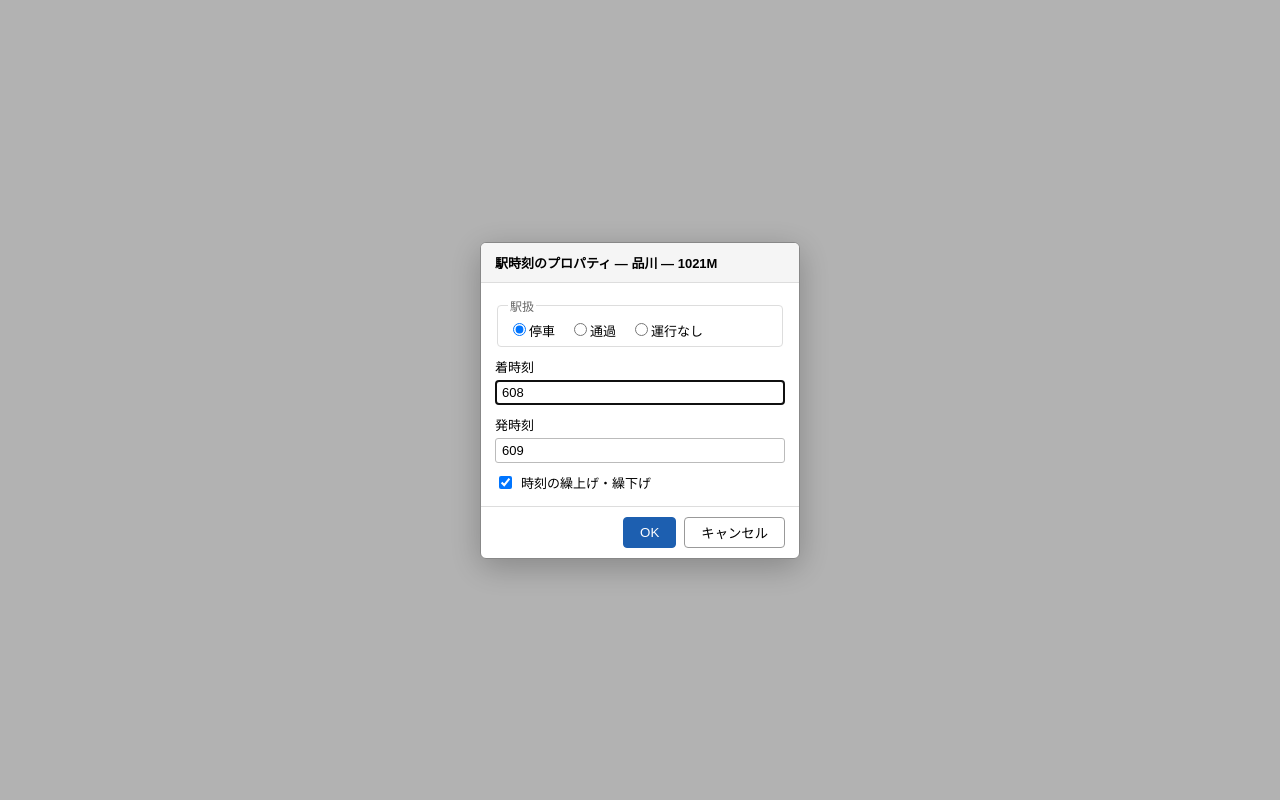
Test: EkiJikokuDialog › ラジオを運行なしへ変更すると時刻欄が無効化され、停車へ戻すと有効化される
The image size is (1280, 800).
Click the radio button labelled "運行なし" at (642, 329), box [635,322,648,336]
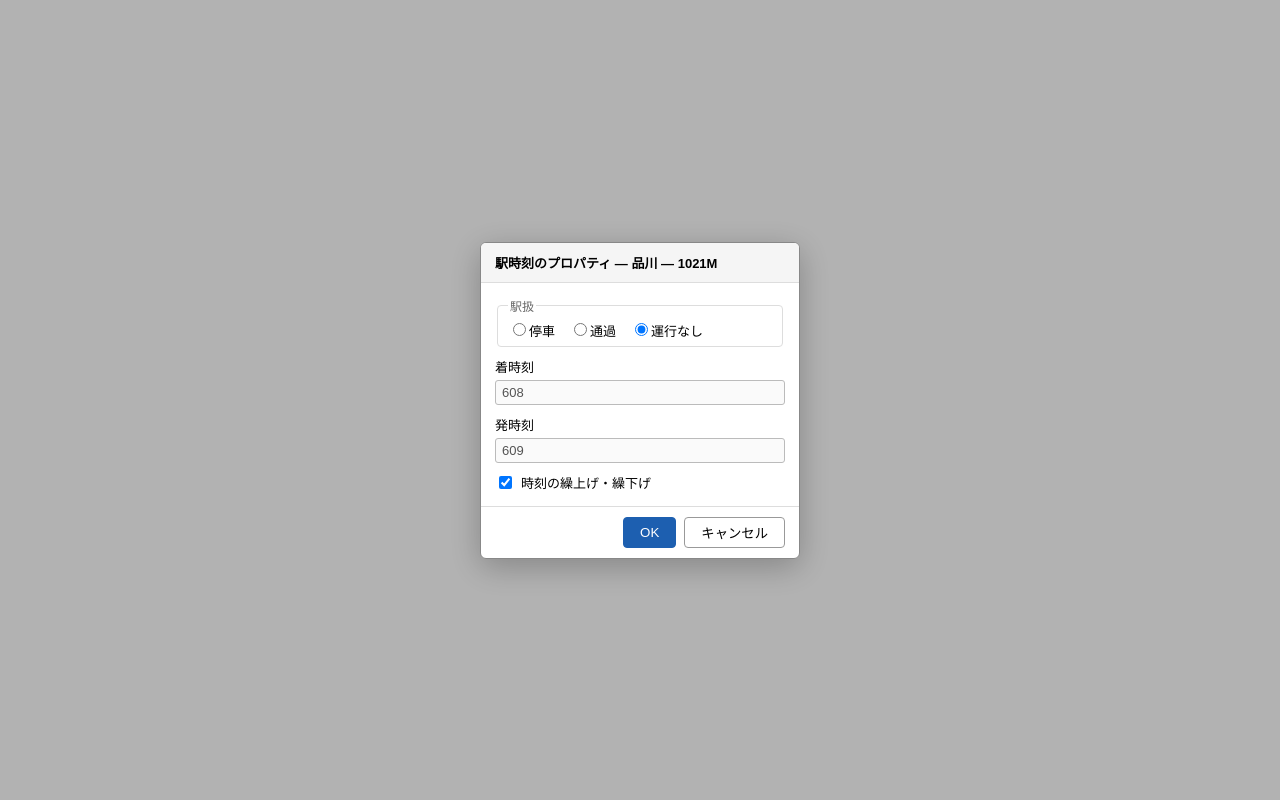
Expected: the field labelled "着時刻" is disabled, [495,380,785,404]
Click the radio button labelled "停車" at (520, 329), box [513,322,526,336]
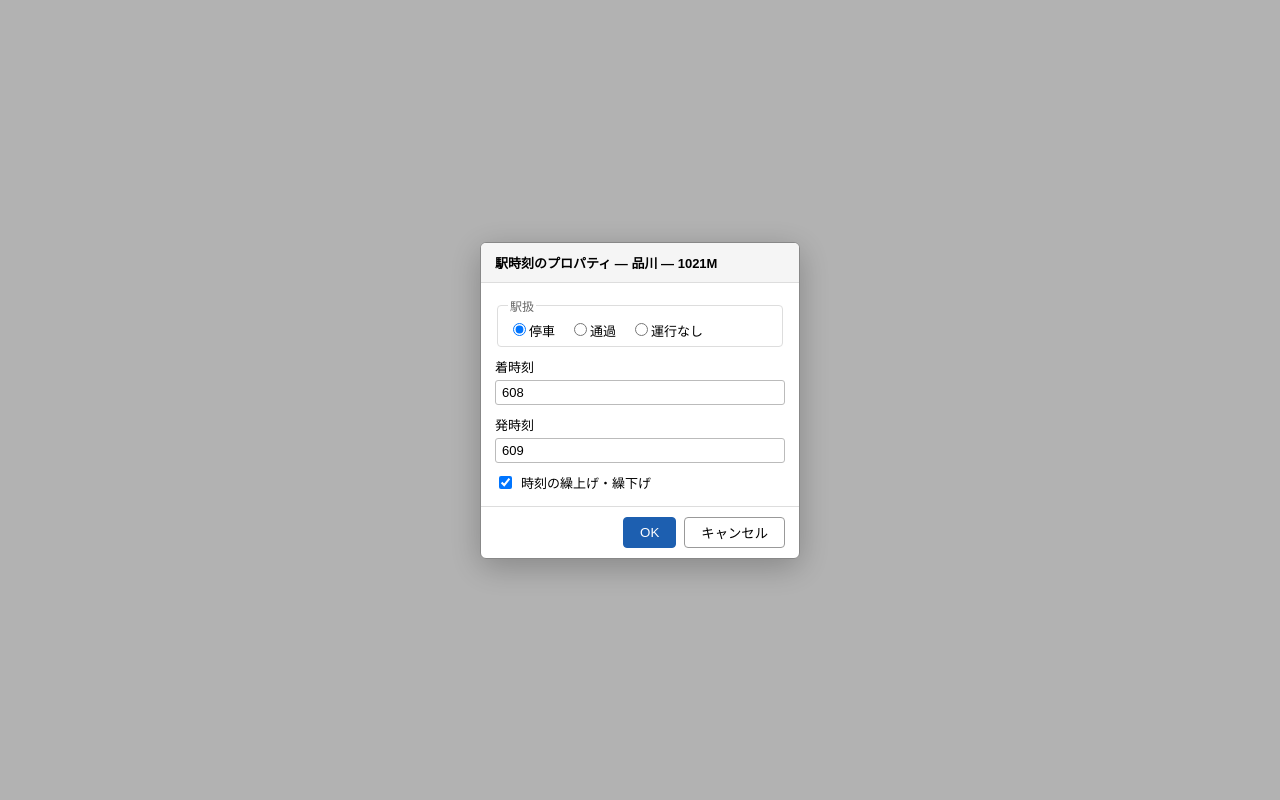
Expected: the field labelled "着時刻" is enabled, [495,380,785,404]
